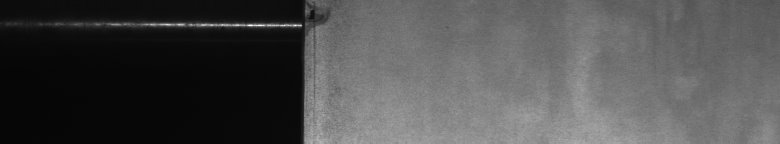hb: (316, 4, 336, 32)
